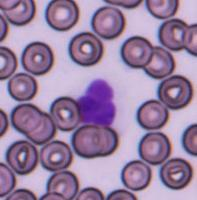M: (73, 72, 124, 127)
